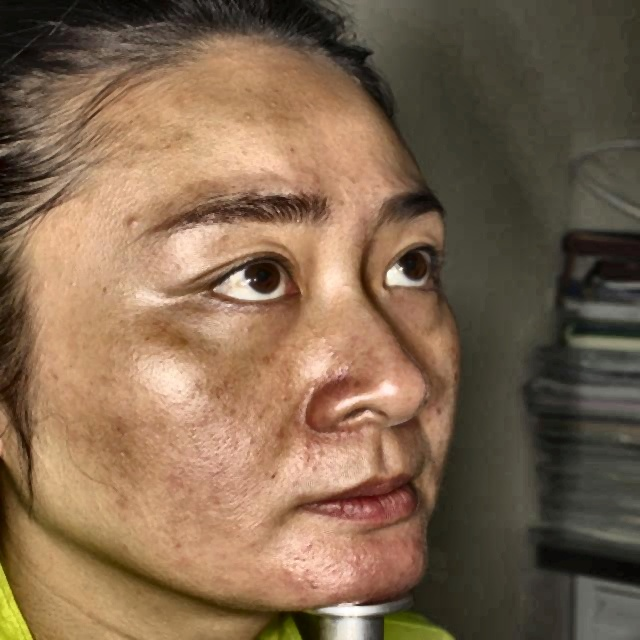comedone: (117, 207, 145, 237)
